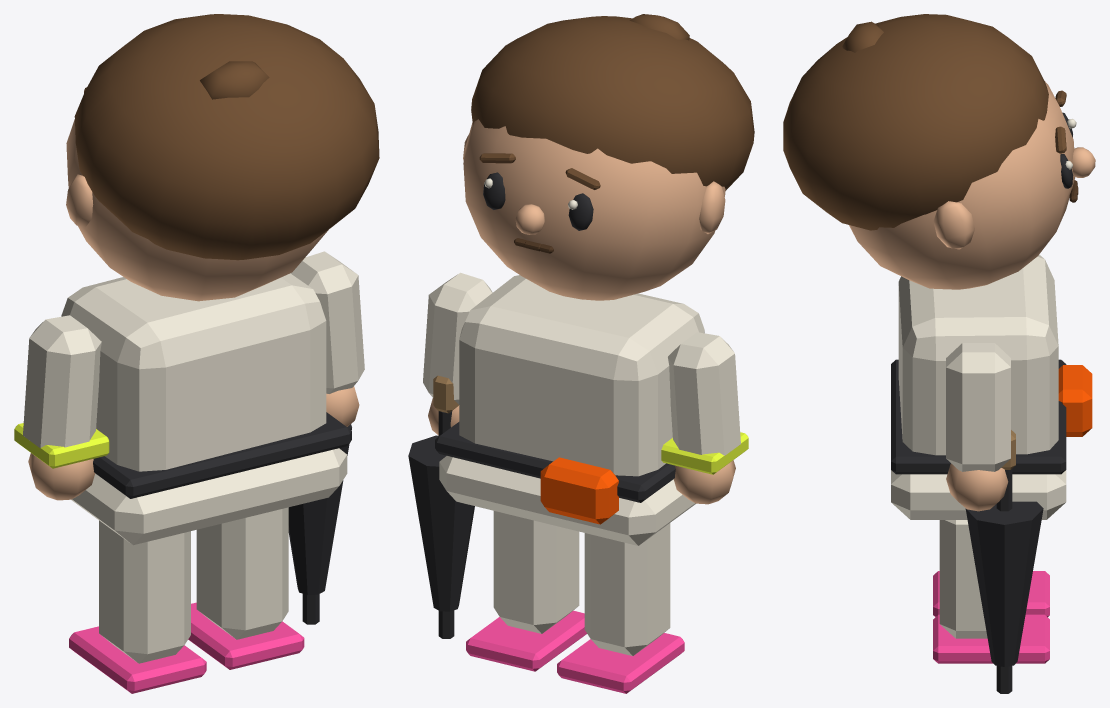
The model's file is prophet.fbx.
The picture shows the model from 3 angles, left to right: view 1: azimuth 30°, elevation 25°; view 2: azimuth 150°, elevation 25°; view 3: azimuth 270°, elevation 25°; orthographic projection. The views are drawn at different scales.
Parts seen in each view (by area): view 1: Head, Body, LegL, LegR, ArmL, ArmR, Umbrella; view 2: Head, Body, LegL, LegR, ArmL, Umbrella, ArmR; view 3: Head, Body, ArmR, Umbrella, LegR, LegL.
Part boxes in pixels (x1,y1,x2,y2): Head: (66, 14, 379, 301); Body: (61, 273, 351, 545); LegL: (69, 520, 206, 693); LegR: (188, 507, 304, 669); ArmL: (14, 315, 109, 500); ArmR: (290, 251, 364, 426); Umbrella: (288, 424, 351, 624); Head: (463, 14, 754, 300); Body: (435, 275, 704, 545); LegL: (557, 523, 684, 693); LegR: (466, 511, 586, 671); ArmL: (661, 332, 748, 504); Umbrella: (408, 375, 474, 638); ArmR: (423, 272, 492, 435); Head: (783, 14, 1095, 289); Body: (891, 255, 1092, 519); ArmR: (946, 343, 1010, 511); Umbrella: (965, 430, 1043, 693); LegR: (933, 520, 1049, 663); LegL: (933, 571, 1049, 617).
Bounding box in the file's own units: 0.5401 × 0.4803 × 1.02.
